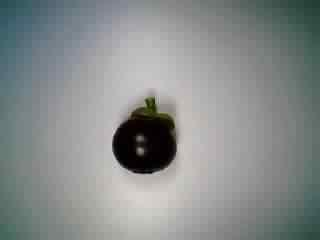mangosteen: (104, 94, 185, 176)
